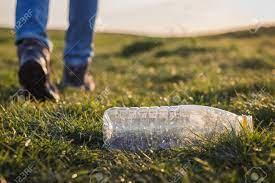bottle: (100, 100, 257, 155)
